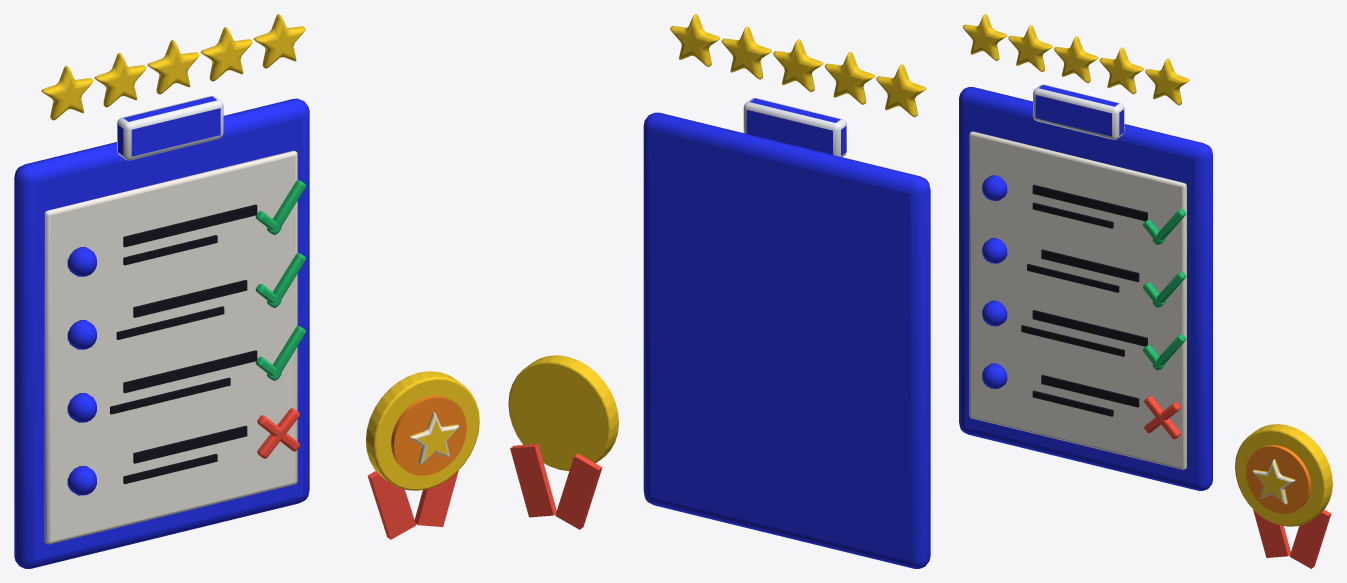
The model's file is scorecard.glb.
3 views of the same model, side by side, from view 1: azimuth 30°, elevation 25°; view 2: azimuth 150°, elevation 25°; view 3: azimuth 330°, elevation 25° (orthographic). The views are drawn at different scales.
Parts seen in each view (by area): view 1: paper, board, spin_badge, rows, bob_stars, checks, cross; view 2: board, spin_badge, bob_stars; view 3: paper, board, spin_badge, rows, bob_stars, checks, cross.
Boxes of the visible parts, x1,y1,x2,y2 form: paper: (44,150,297,544); board: (14,96,309,568); spin_badge: (366,371,479,539); rows: (67,204,257,495); bob_stars: (41,14,305,120); checks: (255,180,305,380); cross: (257,408,299,458); board: (643,98,930,568); spin_badge: (508,355,618,529); bob_stars: (670,14,926,117); paper: (969,131,1186,469); board: (959,84,1212,490); spin_badge: (1235,424,1332,568); rows: (982,175,1147,416); bob_stars: (962,14,1189,105); checks: (1143,208,1186,370); cross: (1144,396,1180,439).
Bounding box in the file's own units: 6.7 × 7.98 × 0.9301.
